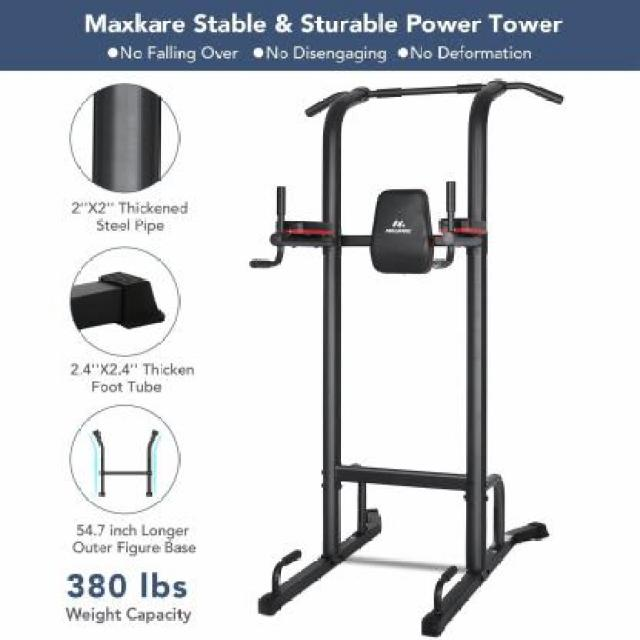chinning dipping: (249, 78, 563, 634)
